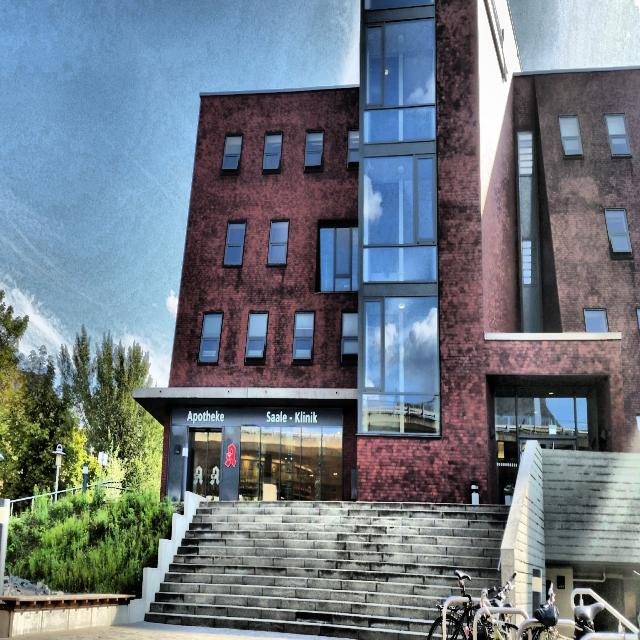escada: (138, 500, 509, 640)
